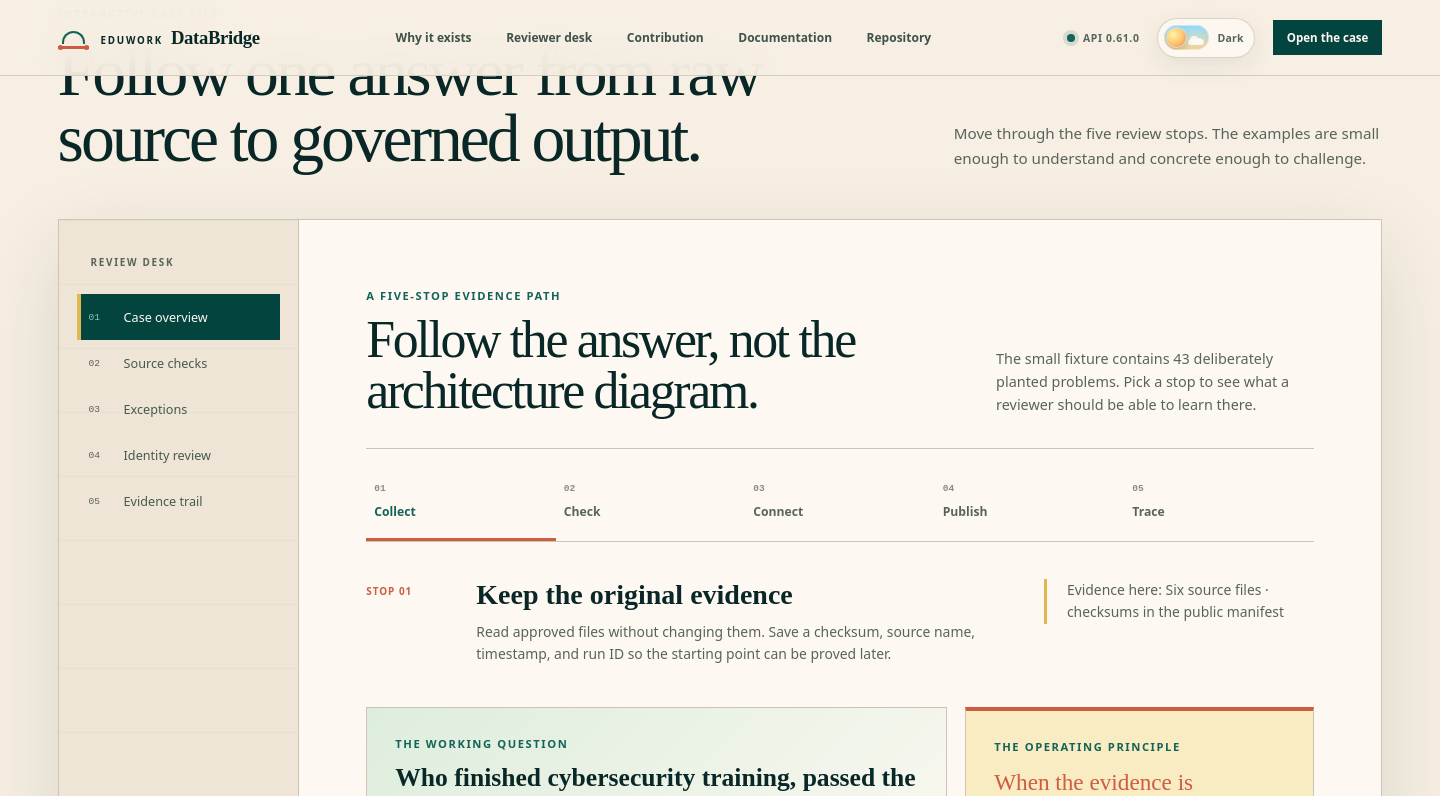
Test: opens the connected review desk when the API is available
(page scrolled)
Expected: the text "API 0.61.0" is shown, [1067,30,1140,44]
Click the button "04 Identity review".
click(178, 455)  # box [77,432,280,478]
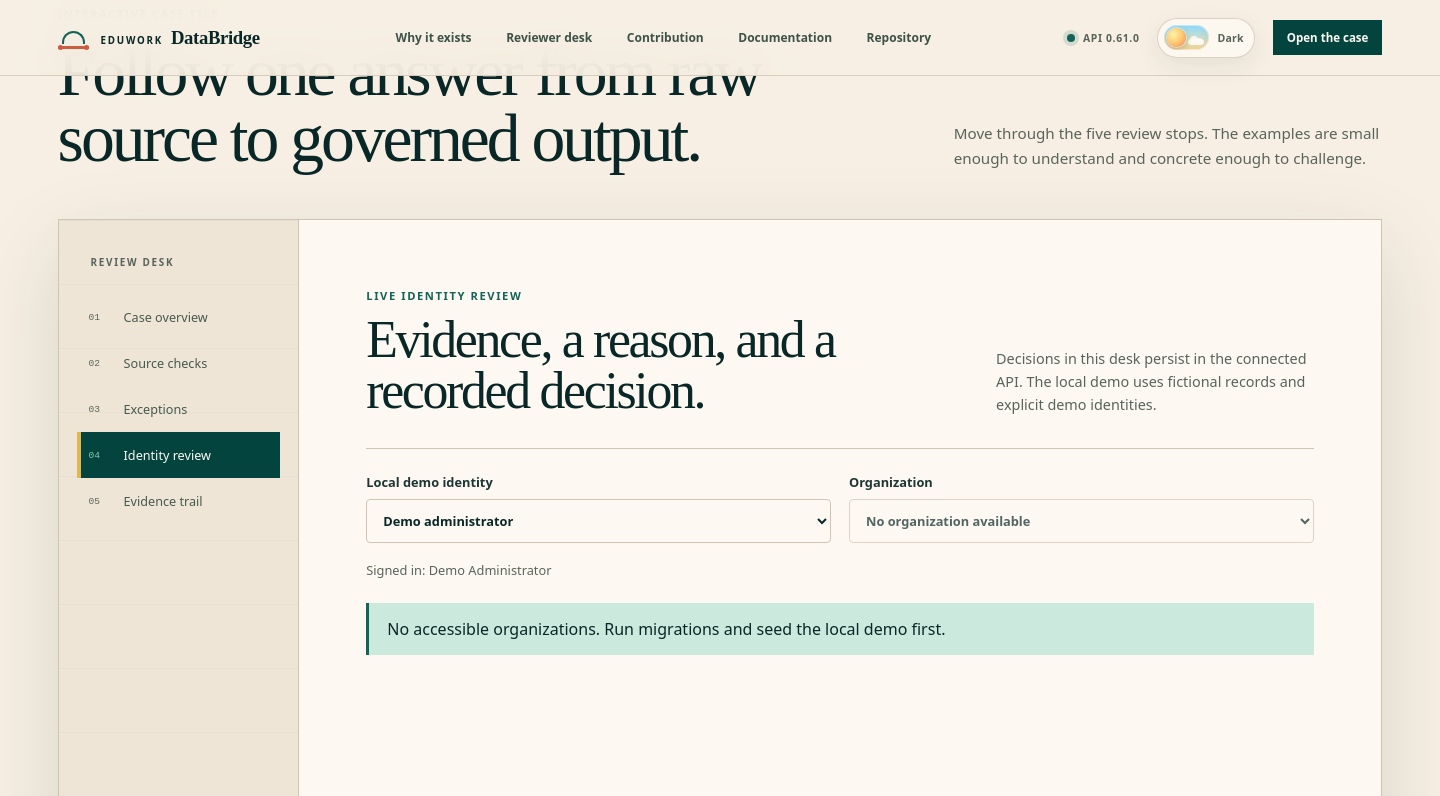
Now the heading "Evidence, a reason, and a recorded decision." is shown, box [366,311,835,419]
Now the text "No accessible organizations" is shown, box [387,618,946,640]
